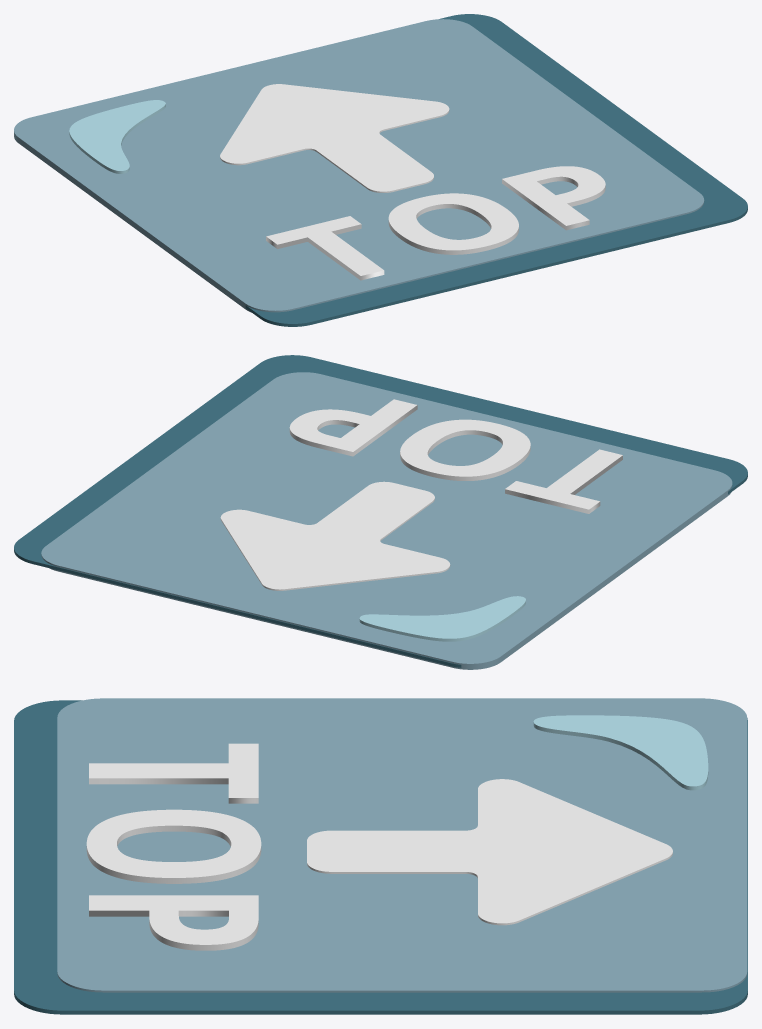
The model's file is emoji_u1f51d.glb.
The picture shows the model from 3 angles, top to bottom: view 1: azimuth 30°, elevation 25°; view 2: azimuth 150°, elevation 25°; view 3: azimuth 270°, elevation 25°; orthographic projection. The views are drawn at different scales.
Parts seen in each view (by area): view 1: emoji_u1f51d; view 2: emoji_u1f51d; view 3: emoji_u1f51d.
Part boxes in pixels (x1,y1,x2,y2): emoji_u1f51d: (14, 14, 747, 326); emoji_u1f51d: (14, 355, 747, 669); emoji_u1f51d: (14, 698, 747, 1014).
Bounding box in the file's own units: 0.0339 × 0.001 × 0.0339.
